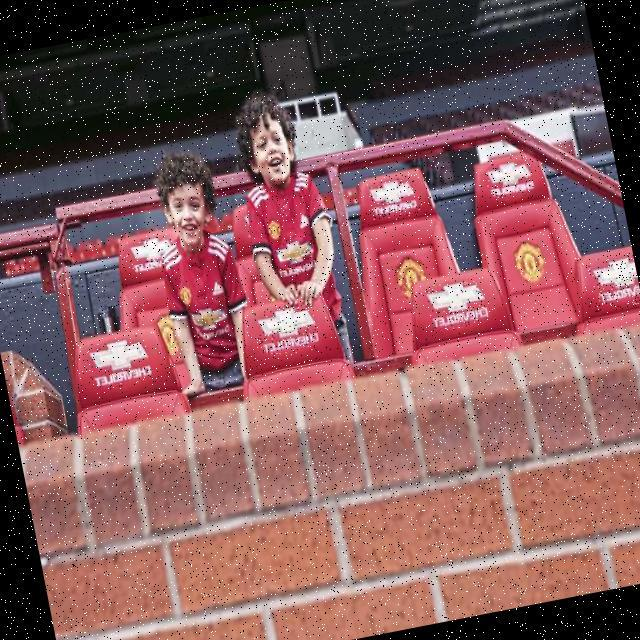Chevrolet: (85, 333, 154, 394), (253, 300, 321, 361), (425, 276, 491, 334), (586, 252, 640, 312), (365, 173, 421, 225), (481, 154, 536, 202), (124, 233, 179, 276), (272, 235, 319, 282), (189, 301, 231, 349)
